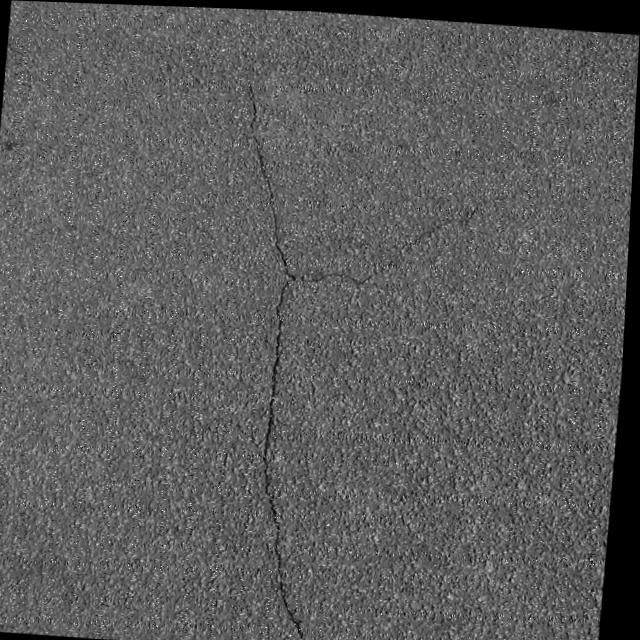Crack: (196, 67, 512, 640)
